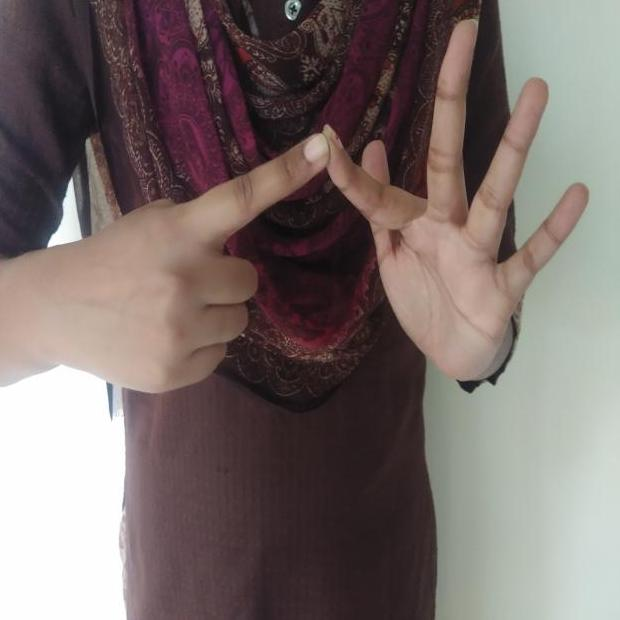D: (60, 13, 597, 410)
